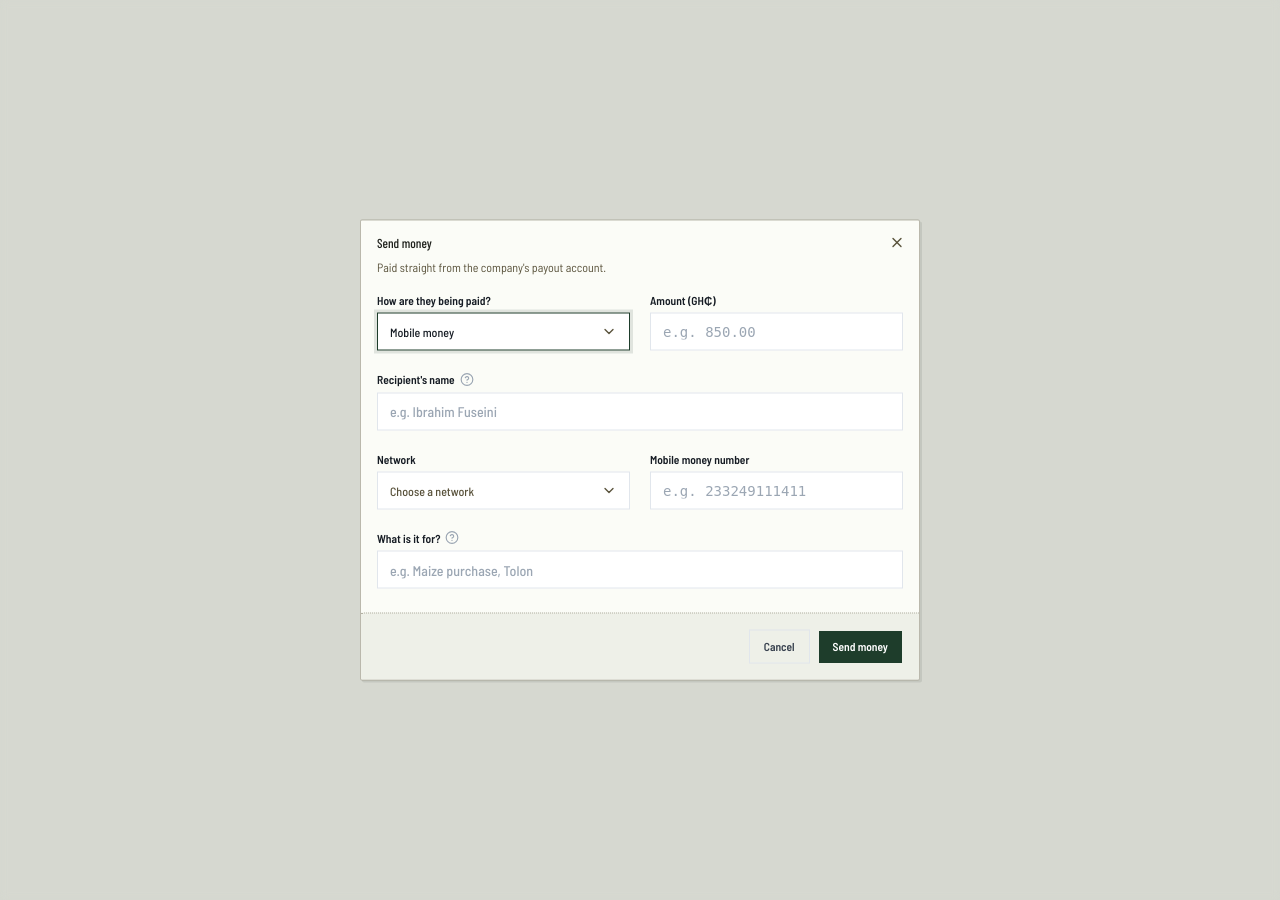
Test case: SendMoneyDialog - rail rules › refuses a MoMo send without a network and a 233-format number
The image size is (1280, 900).
Type "850.00" into the field labelled "Amount (GH₵)" at (776, 332), box [650,313,903,351]
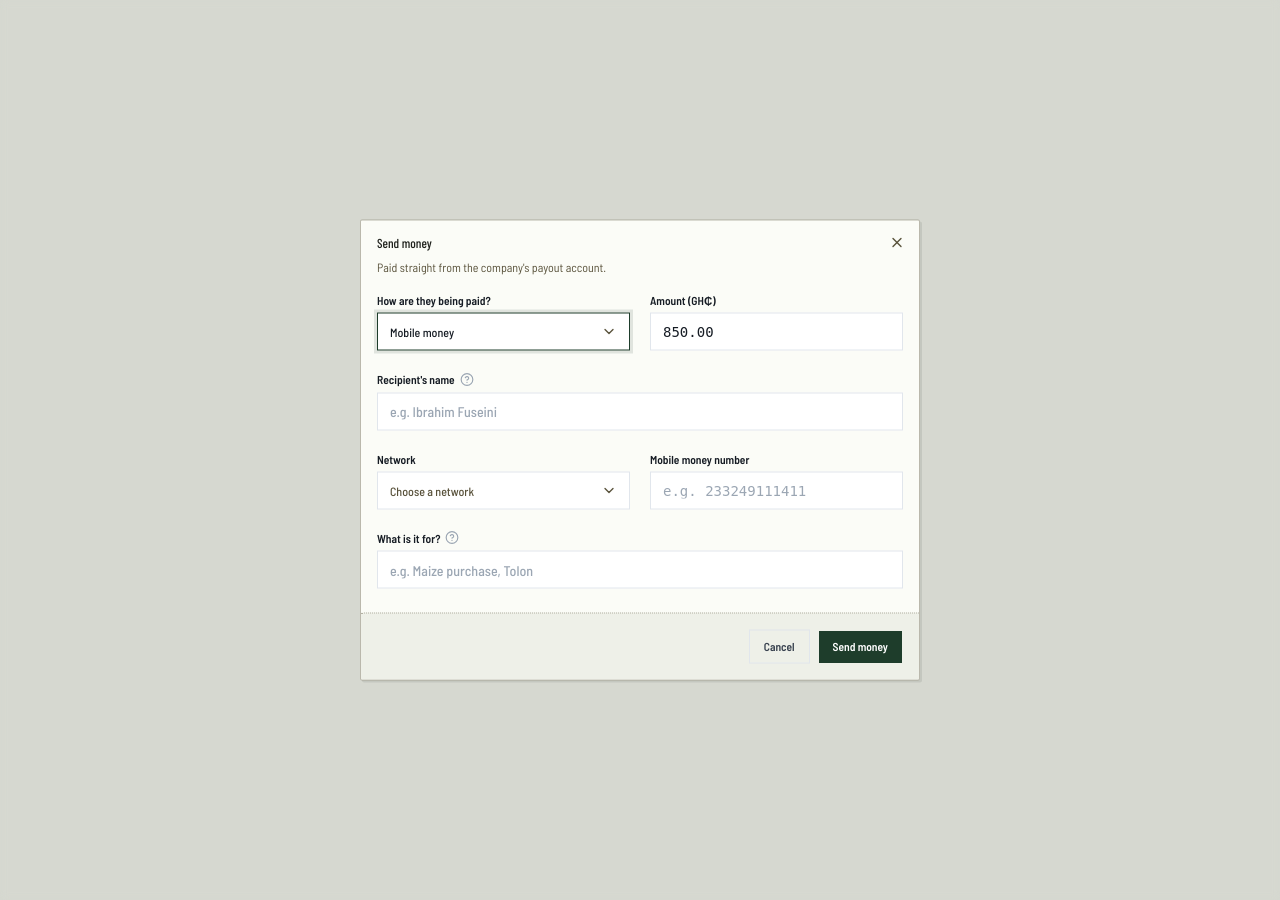
Type "Ibrahim Fuseini" into the field labelled "Recipient's name" at (640, 411), box [377,392,903,430]
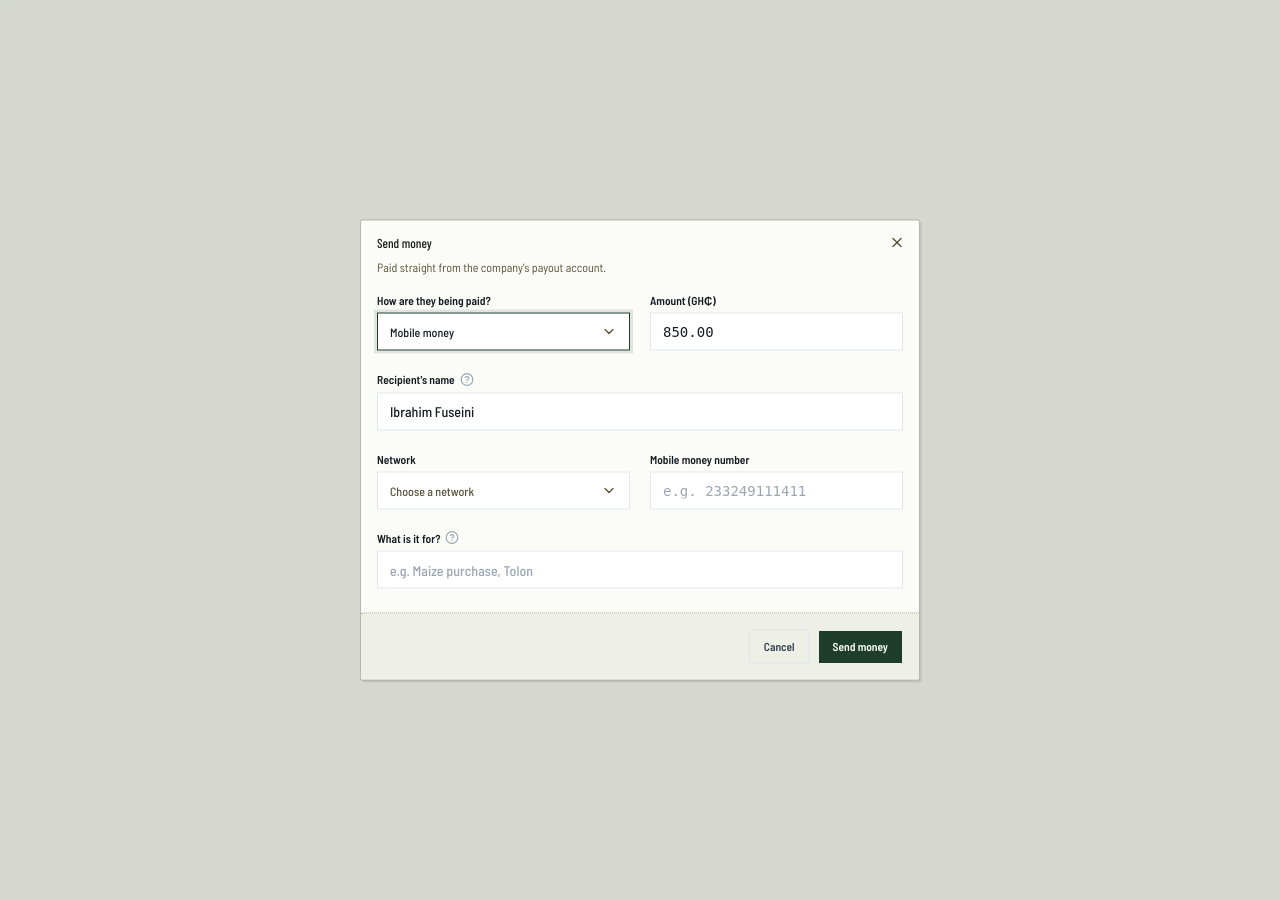
Type "Maize purchase, Tolon" into the field labelled "What is it for?" at (640, 570), box [377,550,903,588]
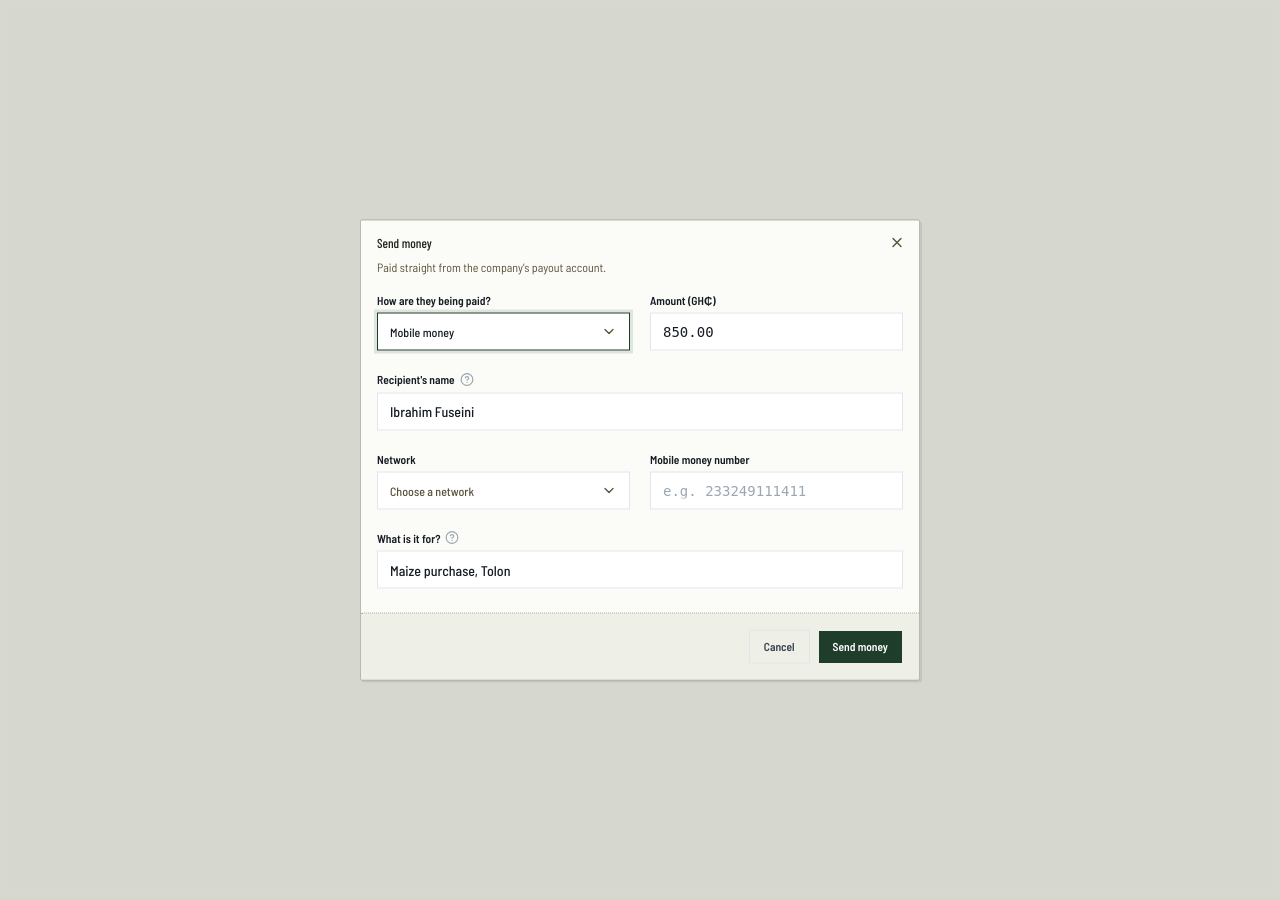
Type "0249111411" into the field labelled "Mobile money number" at (776, 490), box [650,471,903,509]
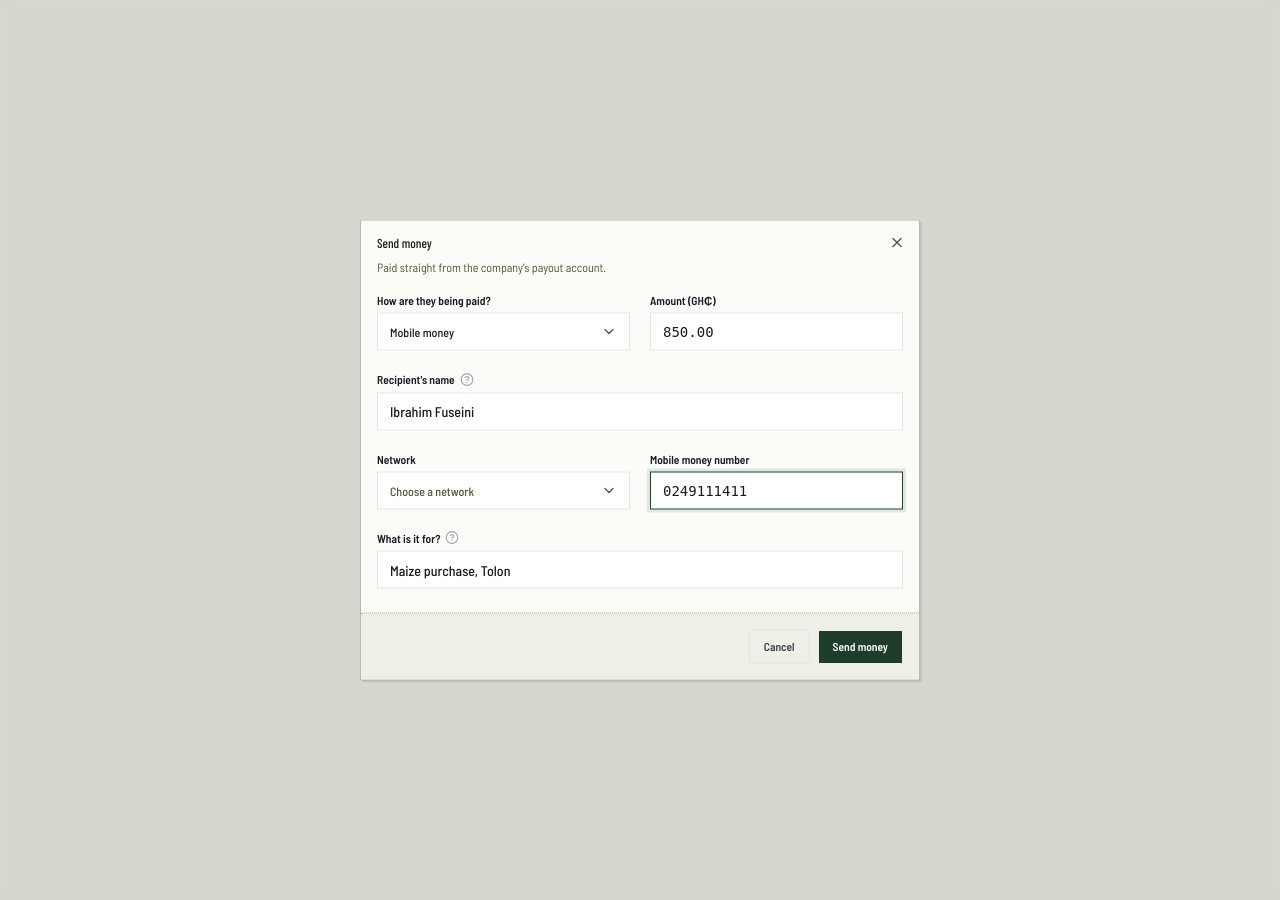
Click the button "Send money" at (860, 646), box [818,630,903,664]
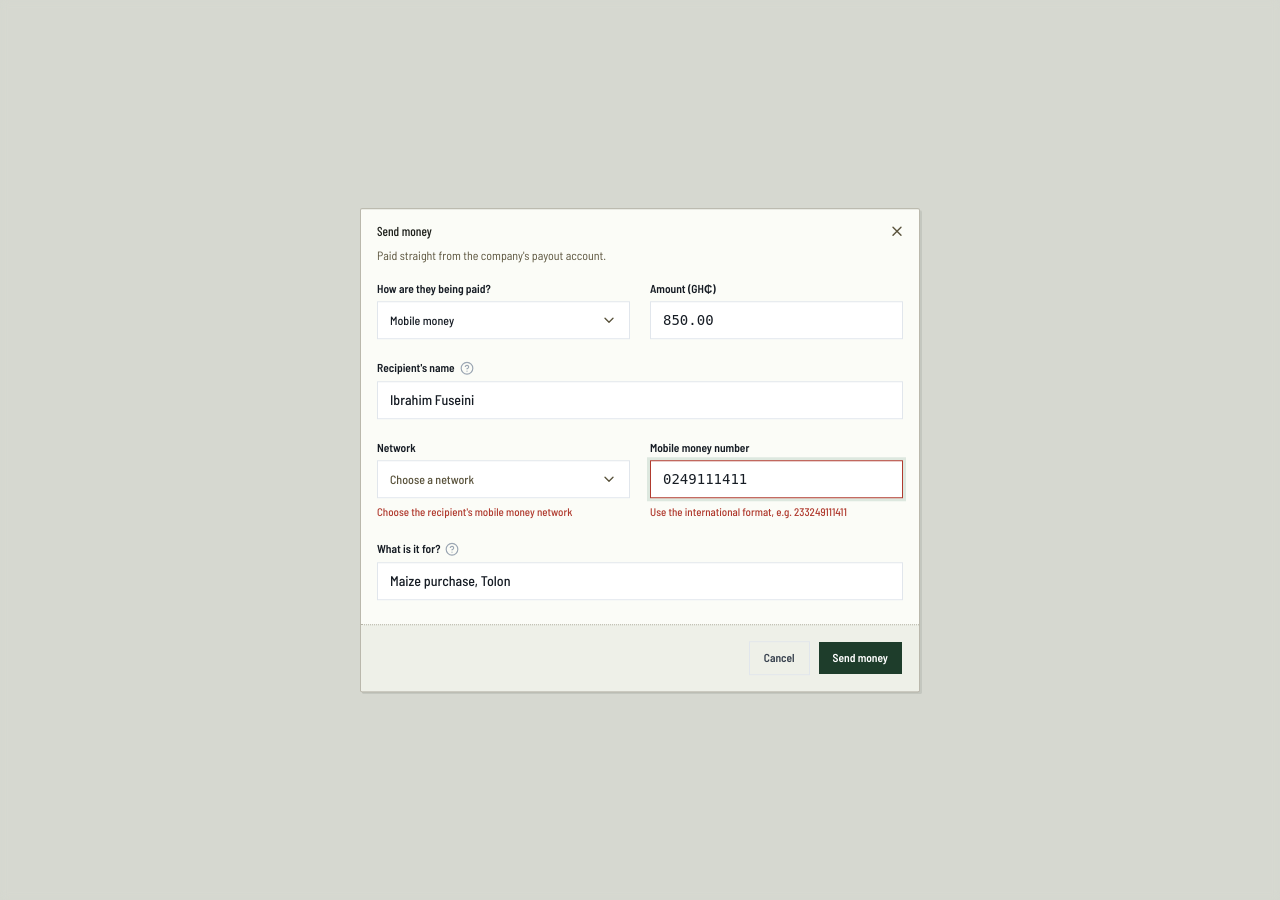
Expected: the text "Choose the recipient's mobile money network" is shown, [377,505,572,518]
Expected: the text "Use the international format, e.g. 233249111411" is shown, [650,505,847,518]
